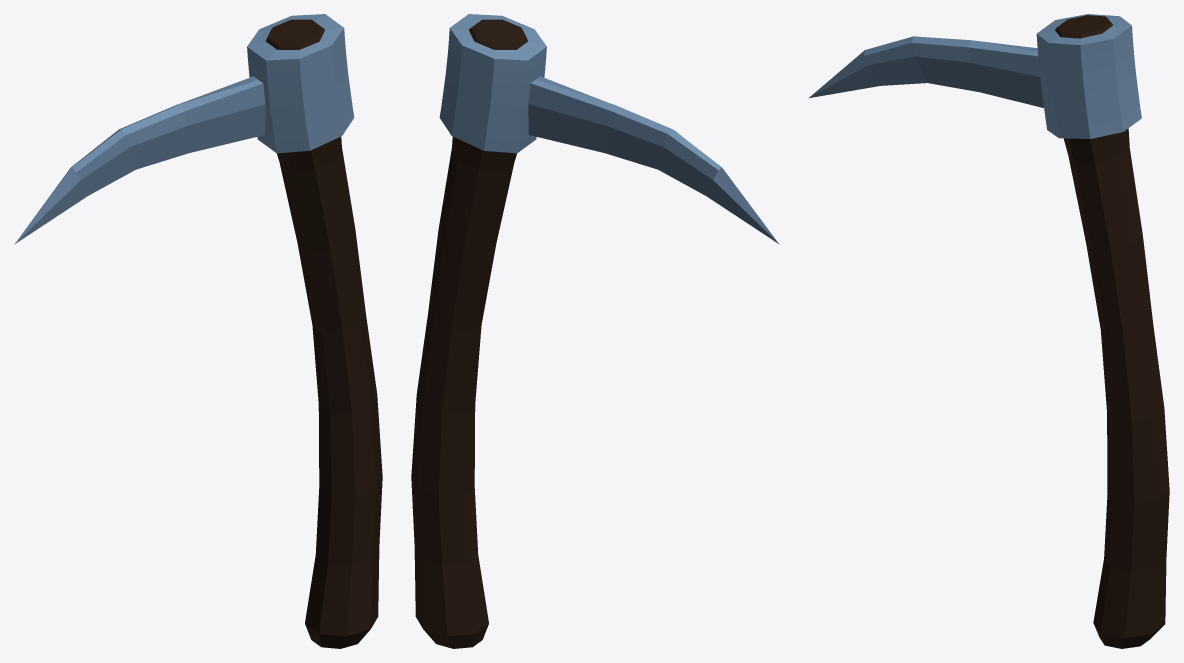
File: sickle1.glb
The picture shows the model from 3 angles, left to right: view 1: azimuth 30°, elevation 25°; view 2: azimuth 150°, elevation 25°; view 3: azimuth 330°, elevation 25°; orthographic projection.
Visible parts, largest first — view 1: FALCE PICCOLA; view 2: FALCE PICCOLA; view 3: FALCE PICCOLA.
Part boxes in pixels (x1,y1,x2,y2): FALCE PICCOLA: [14, 14, 382, 648]; FALCE PICCOLA: [411, 14, 779, 648]; FALCE PICCOLA: [808, 14, 1169, 648].
Size of the model in its own units: 13.01 by 21.27 by 2.51.
